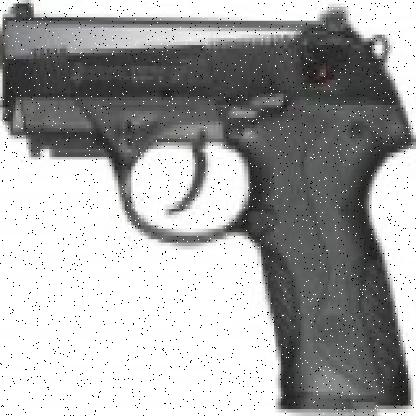pistol: (5, 10, 411, 412)
